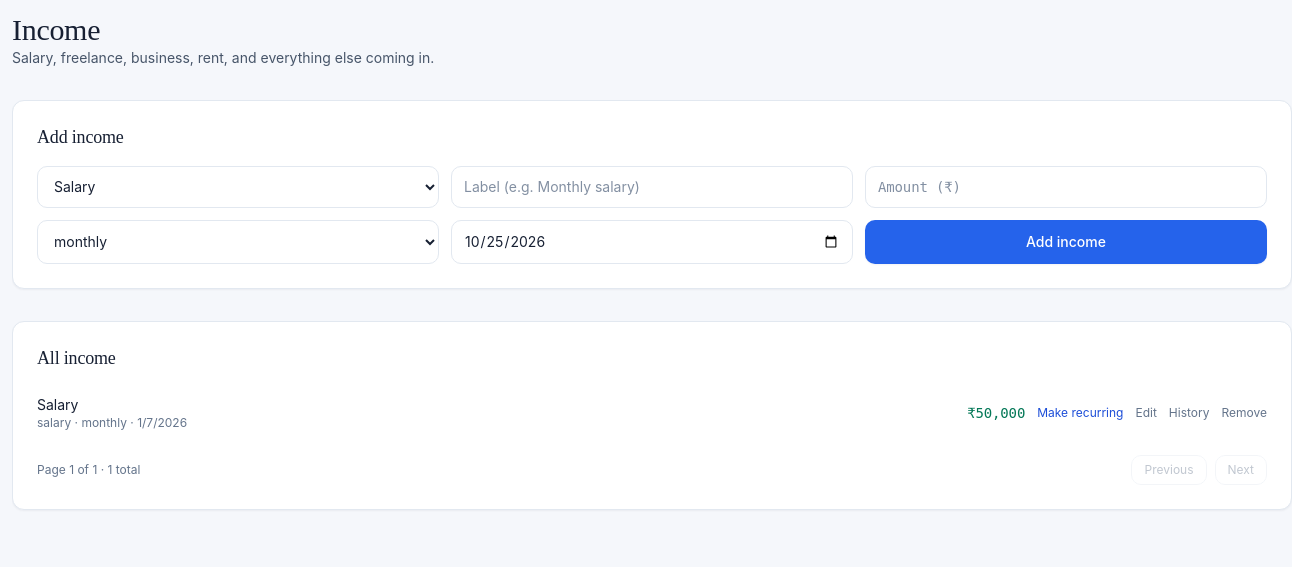
Test: IncomePage amount-change history (new, audit item #4) › shows a 'no changes logged' message for a row with an empty history
Click the button "History" at (1189, 412), box [1169,404,1209,420]
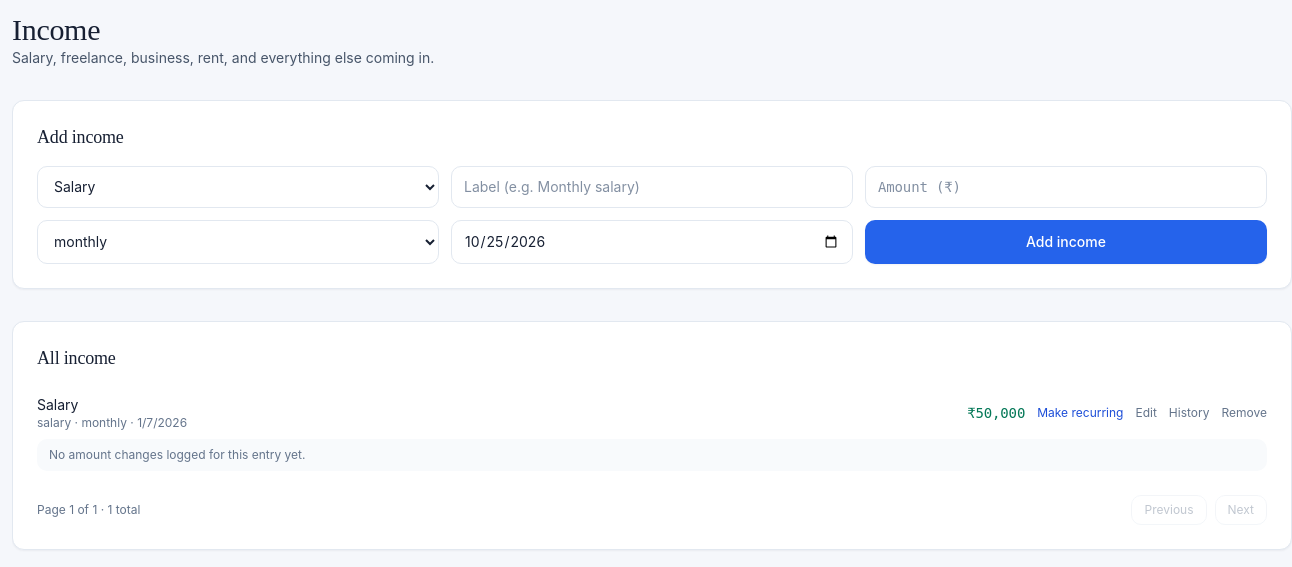
Expected: the text "No amount changes logged for this entry yet." is shown, [49,446,306,462]
